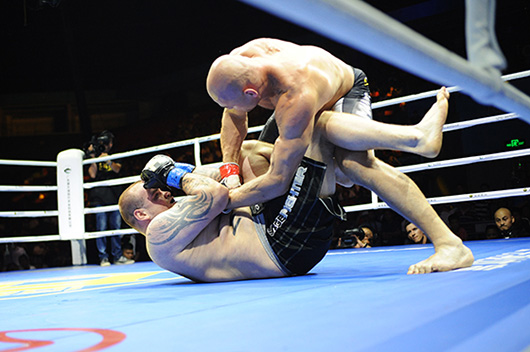fall: (120, 84, 472, 273)
